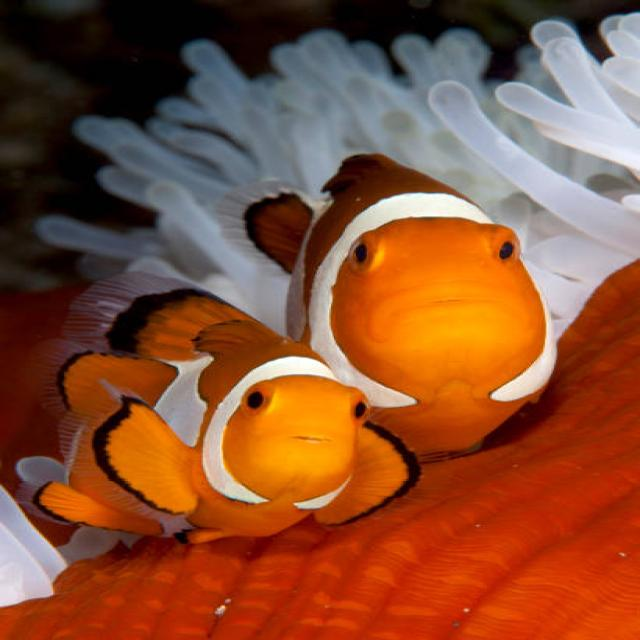ClownFish: (42, 284, 424, 539), (252, 142, 562, 438)
